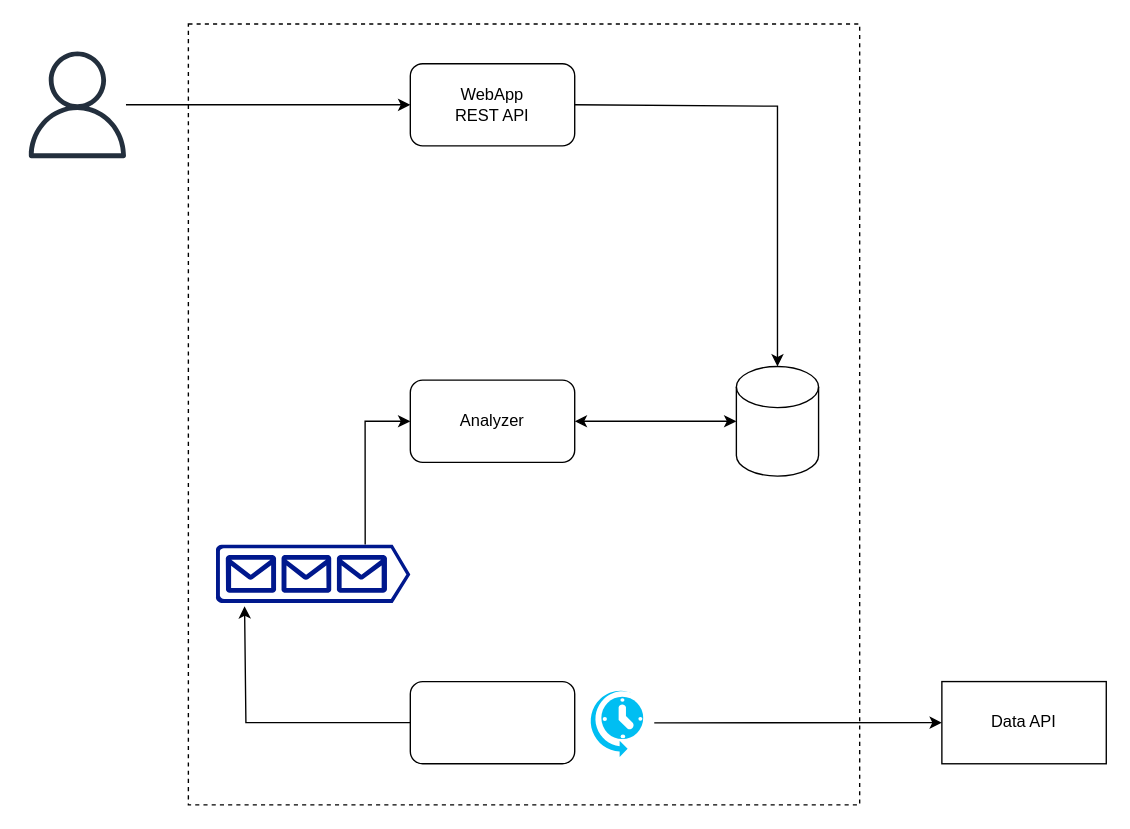
Some shapes in this 1130 by 829 pixel diagram are drawn without their labels. Here are the shapes that lost their labels. From the top down, the centre of each, then its label:
the point at 777,420: DB
the point at 492,722: Collector
